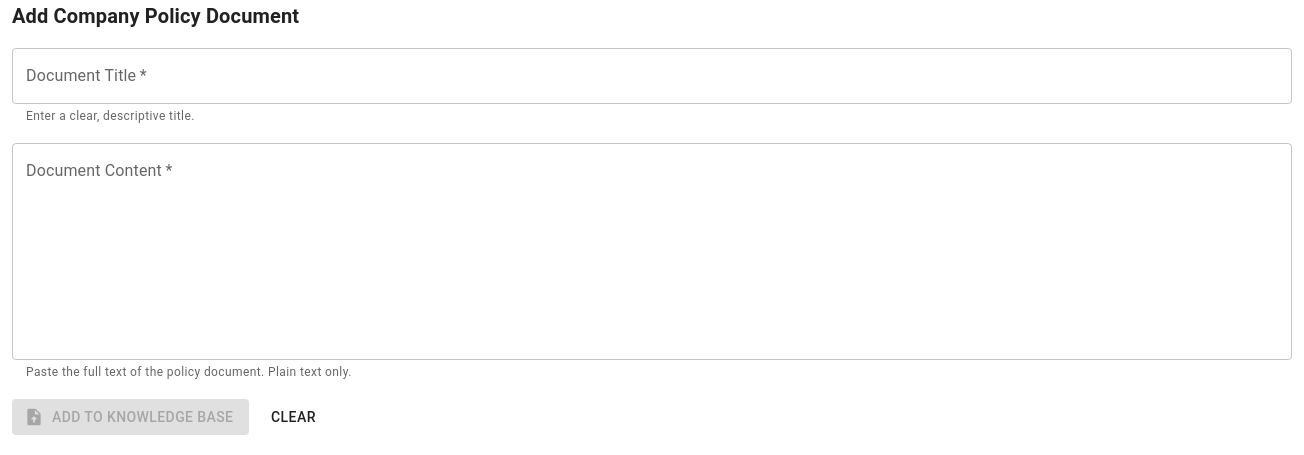
Test: CompanyPolicyForm › Submission › disables submit button while submitting (loading state)
Type "Employee Attendance Policy" into the field labelled "Document Title *" at {"x": 652, "y": 76}, box [12,48,1292,104]
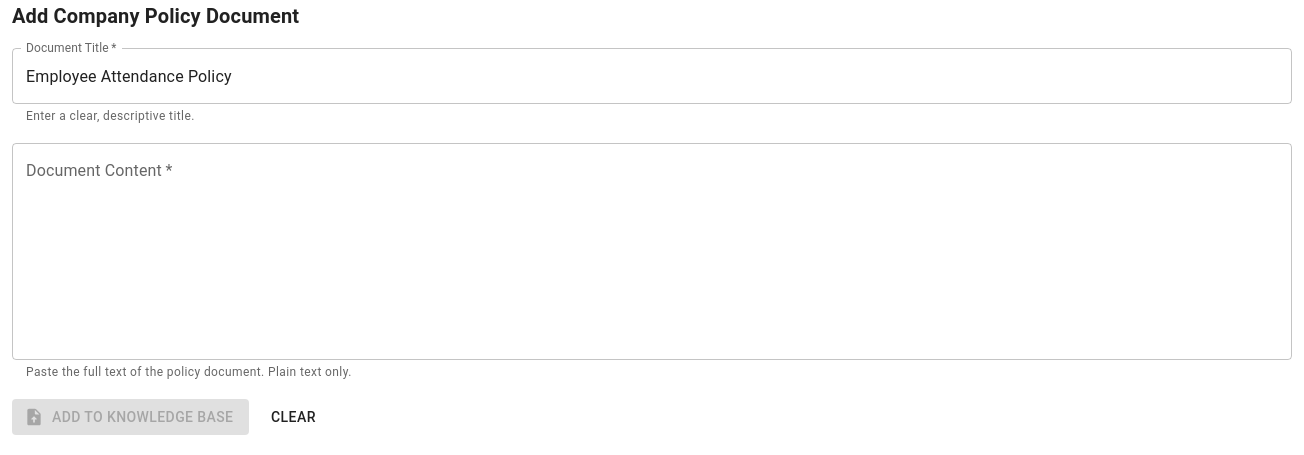
Type "Employees must record attendance daily through the portal." into the text box labelled "Document Content *" at {"x": 652, "y": 251}, box [26,159,1278,343]
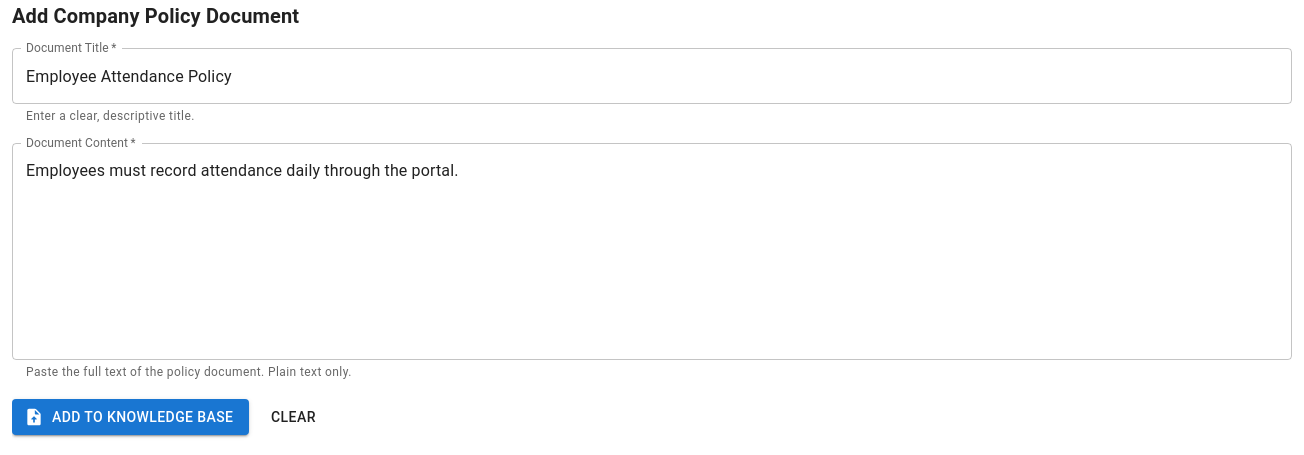
Click the button with aria-label "submit document" at {"x": 131, "y": 417}, box [12,399,249,435]
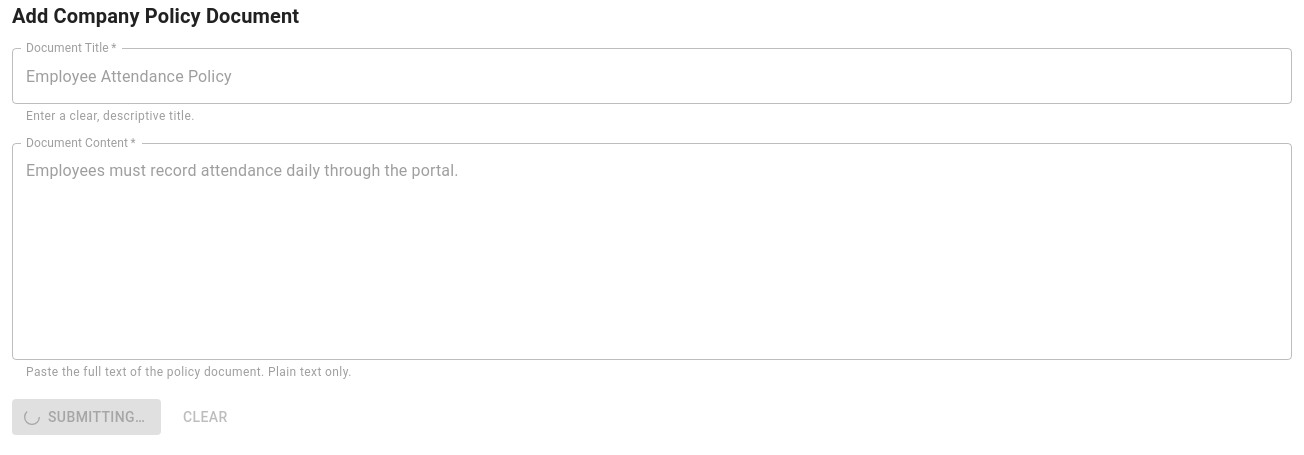
Result: the button with aria-label "submit document" is disabled at [12,399,161,435]
